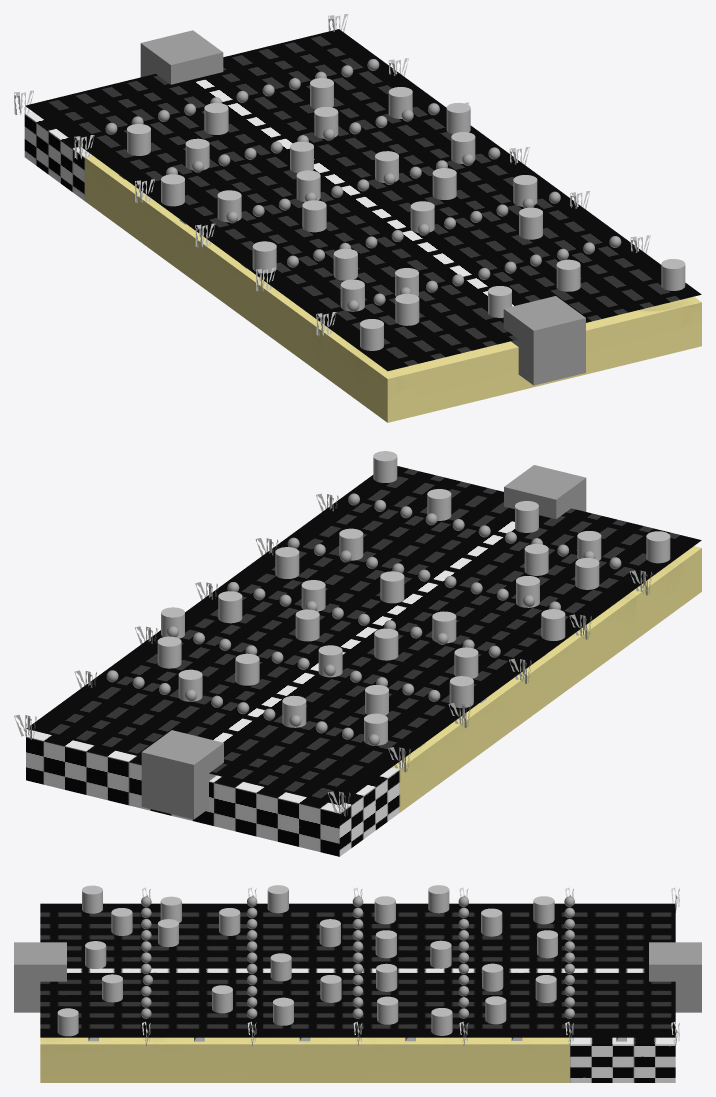
Rendered from assets013_Streckenteil_gerade_end001.fbx.
The picture shows the model from 3 angles, top to bottom: view 1: azimuth 30°, elevation 25°; view 2: azimuth 150°, elevation 25°; view 3: azimuth 270°, elevation 25°; orthographic projection. The views are drawn at different scales.
Parts seen in each view (by area): view 1: streckenteil_gerade_indicator_geo, streckenteil_gerade_end_geo, a (×11), b (×10), startpoint, c (×5), endpoint; view 2: streckenteil_gerade_indicator_geo, streckenteil_gerade_end_geo, a (×12), endpoint, b (×8), c (×5), startpoint; view 3: streckenteil_gerade_indicator_geo, streckenteil_gerade_end_geo, a (×12), b (×10), startpoint, endpoint, c (×5).
Boxes of the visible parts, left/top/right/bottom form: streckenteil_gerade_indicator_geo: left=25, top=29, right=701, bottom=371; streckenteil_gerade_end_geo: left=24, top=111, right=701, bottom=422; a (×11): left=296, top=151, right=685, bottom=350; b (×10): left=204, top=102, right=475, bottom=325; startpoint: left=503, top=296, right=585, bottom=385; c (×5): left=127, top=78, right=412, bottom=206; endpoint: left=140, top=30, right=223, bottom=84; streckenteil_gerade_indicator_geo: left=26, top=466, right=701, bottom=805; streckenteil_gerade_end_geo: left=26, top=546, right=701, bottom=856; a (×12): left=275, top=451, right=670, bottom=660; endpoint: left=141, top=730, right=223, bottom=819; b (×8): left=218, top=580, right=565, bottom=727; c (×5): left=157, top=636, right=473, bottom=745; startpoint: left=504, top=465, right=586, bottom=519; streckenteil_gerade_indicator_geo: left=40, top=903, right=675, bottom=1037; streckenteil_gerade_end_geo: left=40, top=1037, right=675, bottom=1082; a (×12): left=57, top=885, right=397, bottom=1036; b (×10): left=111, top=885, right=557, bottom=1035; startpoint: left=14, top=942, right=66, bottom=1012; endpoint: left=649, top=942, right=701, bottom=1012; c (×5): left=428, top=885, right=556, bottom=1024.
Size of the model in its own units: 32.03 by 6.73 by 65.
